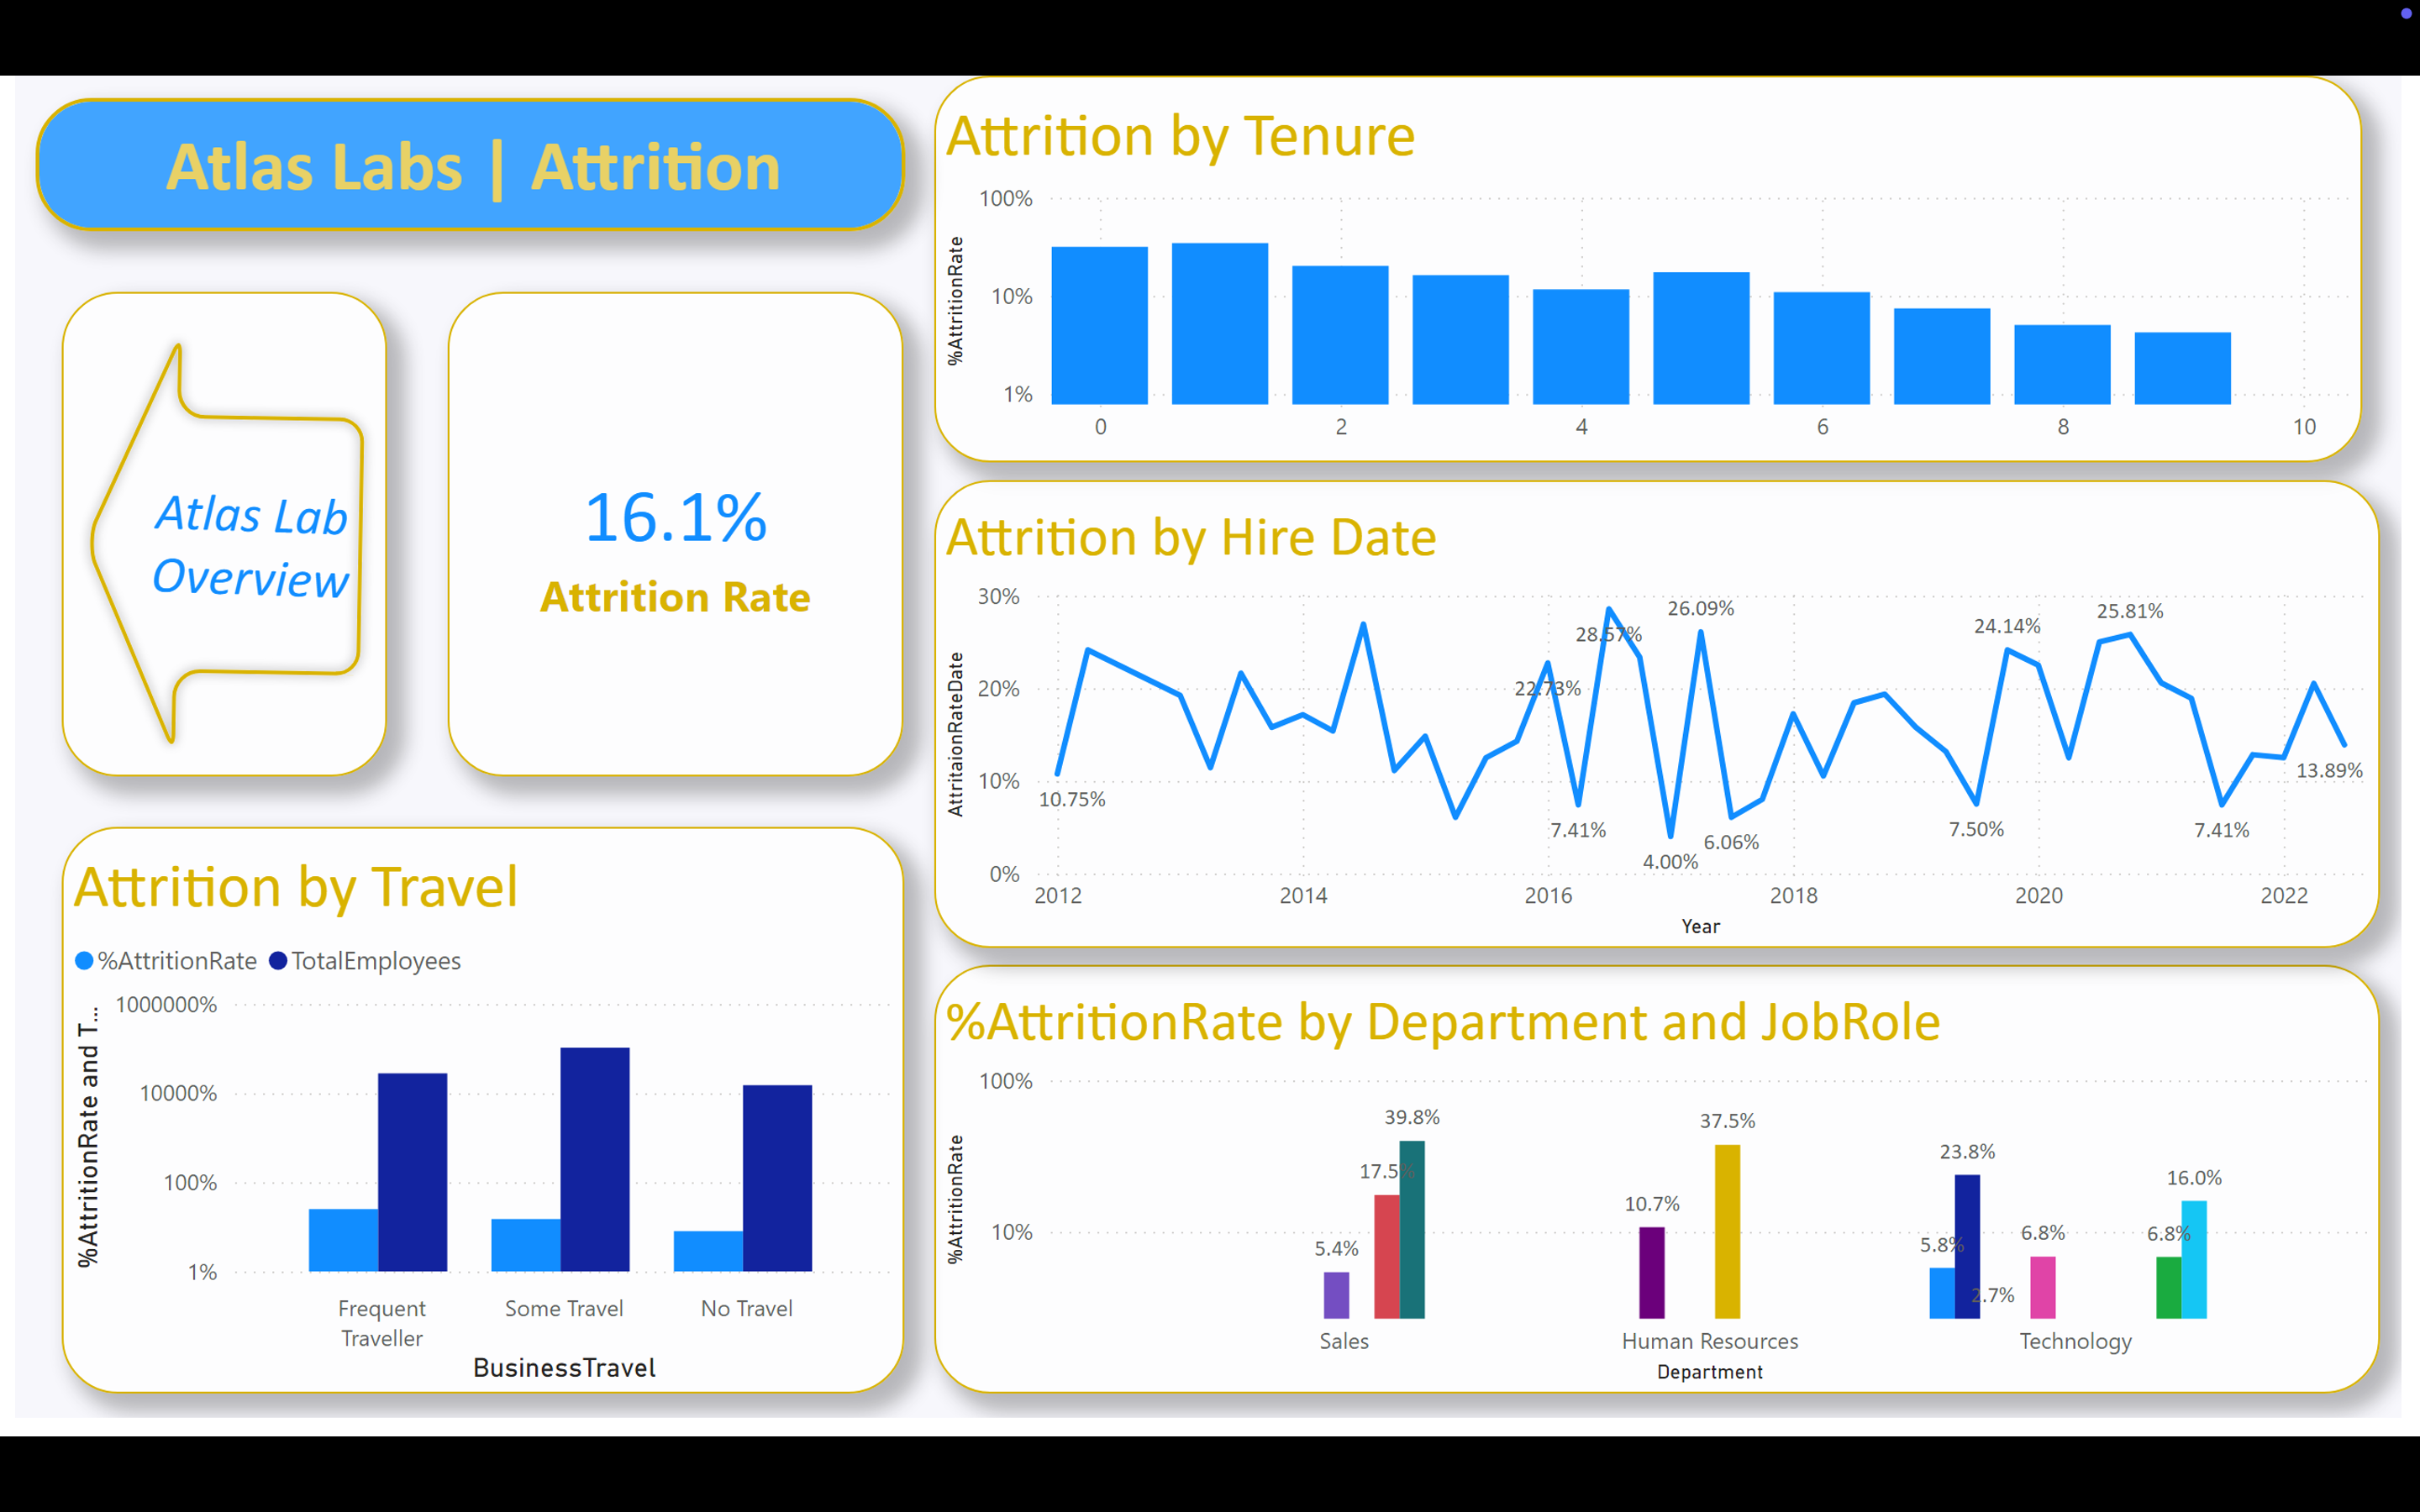

The dashboard page shown, as its layout file describes it:
{"tool":"powerbi","page":{"name":"Attrition","canvas":[1280,720],"ordinal":3},"visuals":[{"type":"card","fields":{"Values":["_Measures.%AttritionRate"]},"box":[232.5,116.2,244.4,260.2],"z":0},{"type":"clusteredColumnChart","fields":{"Category":["Employee.Department"],"Y":["_Measures.%AttritionRate"],"Series":["Employee.JobRole"]},"box":[492.7,476.9,775.4,229.8],"z":1},{"type":"lineClusteredColumnComboChart","title":"Attrition by  Travel","fields":{"Category":["Employee.BusinessTravel"],"Y":["_Measures.%AttritionRate","_Measures.TotalEmployees"]},"box":[25.1,402.9,451.8,303.8],"z":2},{"type":"shape","box":[25.1,116.2,174.4,260.2],"z":3},{"type":"clusteredColumnChart","title":"Attrition by Tenure","fields":{"Category":["Employee.YearsAtCompany"],"Y":["_Measures.%AttritionRate"]},"box":[492.7,0,766.1,207.4],"z":4},{"type":"lineChart","title":"Attrition by Hire Date","fields":{"Y":["_Measures.AttritaionRateDate"],"Category":["DimDate.Date.Variation.Date Hierarchy.Year","DimDate.Date.Variation.Date Hierarchy.Quarter"]},"box":[492.7,216.6,775.4,251],"z":5},{"type":"textbox","title":"Atlas Labs | Attrition","box":[10.6,11.9,466.3,71.3],"z":6}]}

Visuals, with their boxes on the page's 1280x720 design canvas (x1, y1, x2, y2). These are canvas units, not pixel positions in the 2420x1512 screenshot, which may show the page scaled, cropped or inside an application window:
card - _Measures.%AttritionRate: <bbox>232, 116, 477, 376</bbox>
clusteredColumnChart - Employee.Department x _Measures.%AttritionRate: <bbox>493, 477, 1268, 707</bbox>
"Attrition by  Travel" lineClusteredColumnComboChart: <bbox>25, 403, 477, 707</bbox>
shape: <bbox>25, 116, 200, 376</bbox>
"Attrition by Tenure" clusteredColumnChart: <bbox>493, 0, 1259, 207</bbox>
"Attrition by Hire Date" lineChart: <bbox>493, 217, 1268, 468</bbox>
"Atlas Labs | Attrition" textbox: <bbox>11, 12, 477, 83</bbox>
